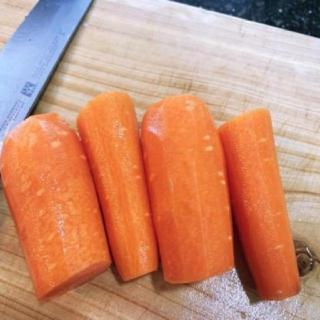carrot: (0, 109, 114, 301), (141, 92, 235, 286), (75, 88, 161, 286), (219, 104, 301, 306)
